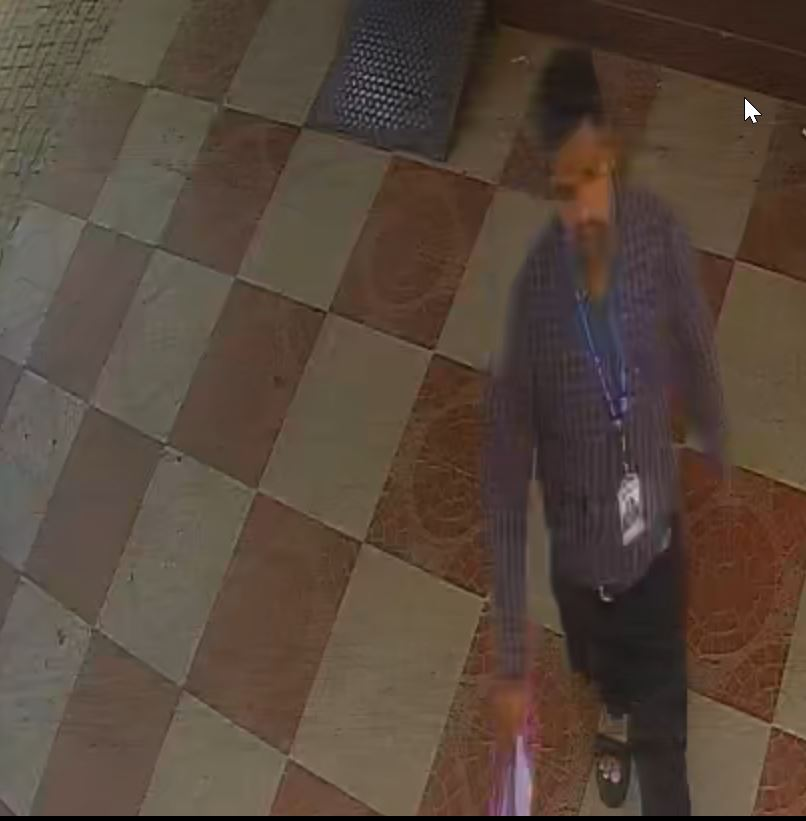not intruder: (481, 35, 738, 821)
